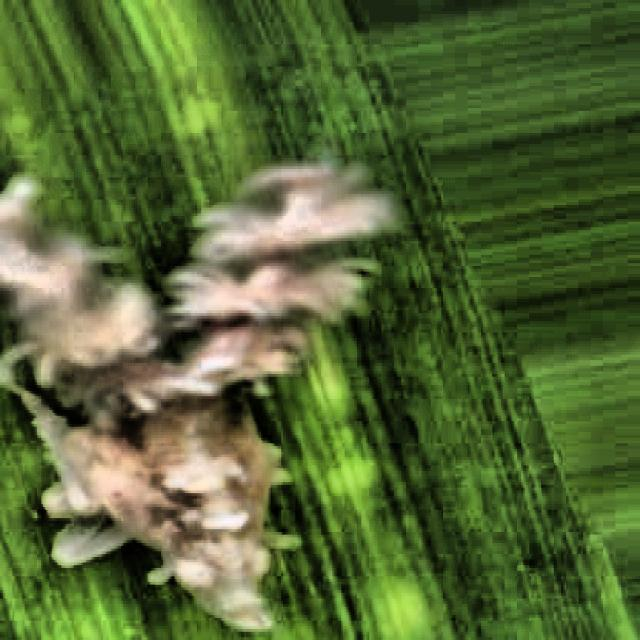Pyrilla-perpusilla: (0, 136, 417, 601)
